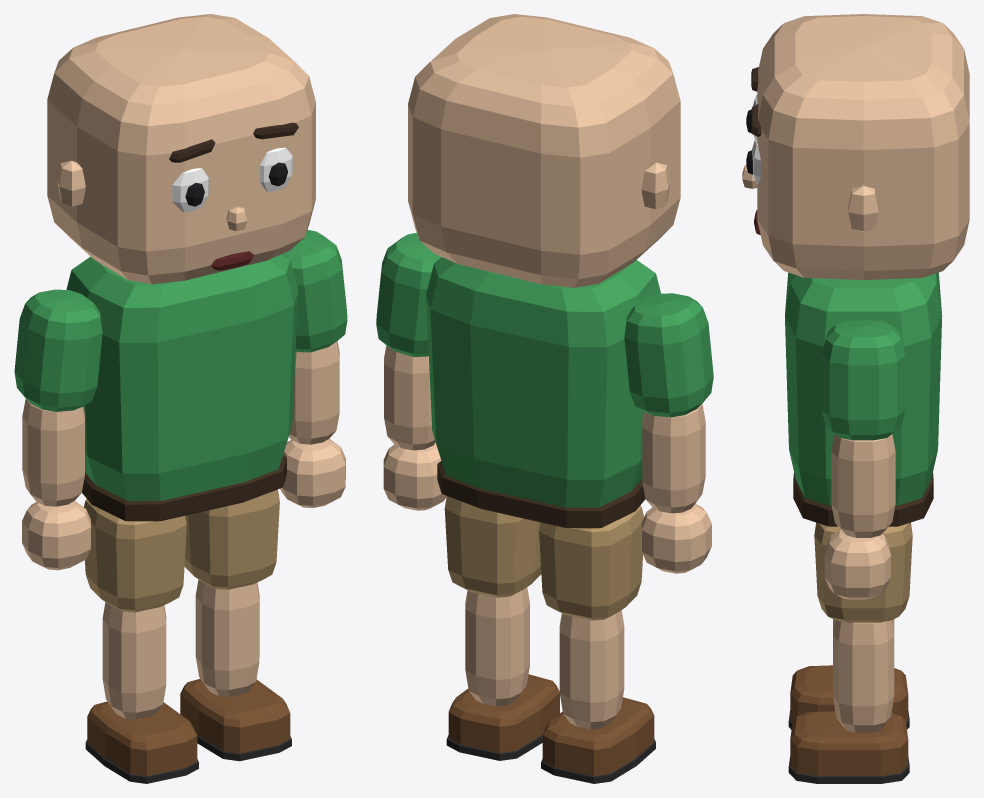
Rendered from hero-c.glb.
The picture shows the model from 3 angles, left to right: view 1: azimuth 30°, elevation 25°; view 2: azimuth 150°, elevation 25°; view 3: azimuth 270°, elevation 25°; orthographic projection.
Visible parts, largest first — view 1: head, torso, leg-right, leg-left, arm-right, arm-left; view 2: head, torso, leg-right, leg-left, arm-right, arm-left; view 3: head, torso, arm-left, leg-left, leg-right.
Part boxes in pixels (box(x1,y1,x2,y2)): head: box(47, 14, 315, 283); torso: box(66, 254, 298, 521); leg-right: box(84, 499, 198, 783); leg-left: box(180, 489, 291, 761); arm-right: box(14, 289, 102, 570); arm-left: box(280, 229, 347, 507); head: box(408, 14, 680, 287); torso: box(426, 257, 660, 528); leg-right: box(539, 505, 655, 783); leg-left: box(444, 496, 559, 760); arm-right: box(624, 293, 713, 573); arm-left: box(376, 232, 446, 510); head: box(742, 14, 969, 279); torso: box(785, 272, 942, 526); arm-left: box(821, 320, 905, 599); leg-left: box(788, 522, 912, 783); leg-right: box(788, 619, 909, 729).
Size of the model in its own units: 1.29 by 2.71 by 0.7985.
